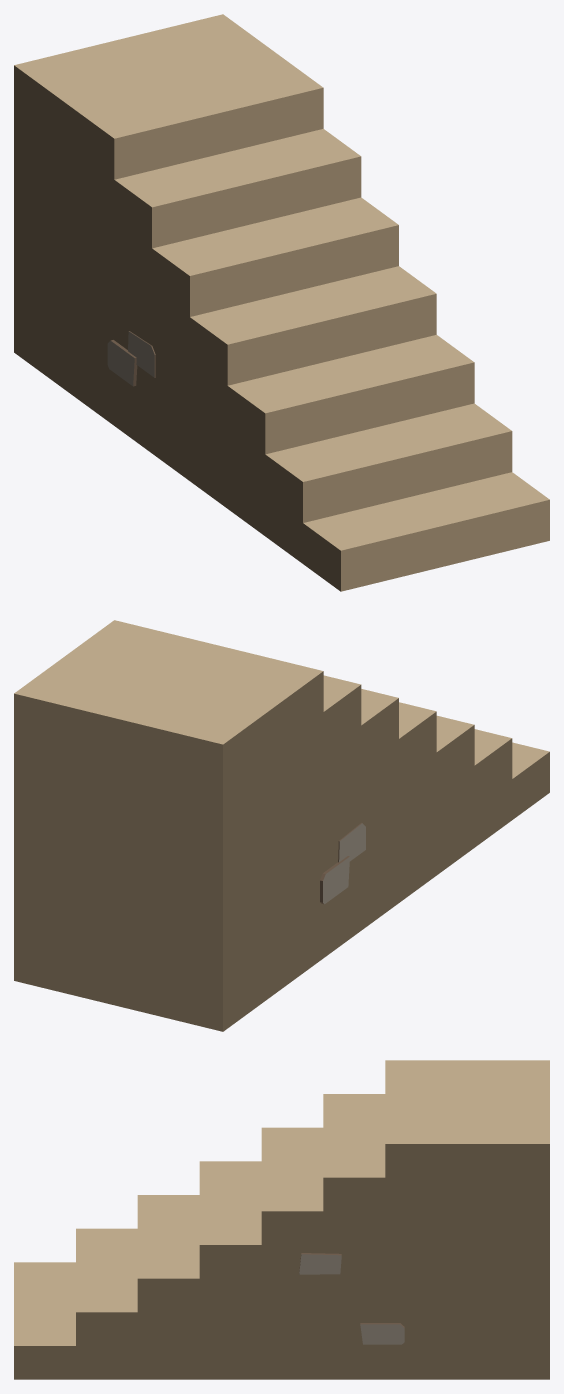
File: TB_D_Bd_Stair.FBX
3 views of the same model, one above another, from view 1: azimuth 30°, elevation 25°; view 2: azimuth 150°, elevation 25°; view 3: azimuth 270°, elevation 25° (orthographic). The views are drawn at different scales.
Visible parts, largest first — view 1: TB_D_Bd_Stair; view 2: TB_D_Bd_Stair; view 3: TB_D_Bd_Stair.
Part boxes in pixels (x1=…): TB_D_Bd_Stair: x1=14, y1=14, x2=549, y2=591; TB_D_Bd_Stair: x1=14, y1=620, x2=549, y2=1031; TB_D_Bd_Stair: x1=14, y1=1060, x2=549, y2=1379.
Bounding box in the file's own units: 2.06 × 2.62 × 5.41.
